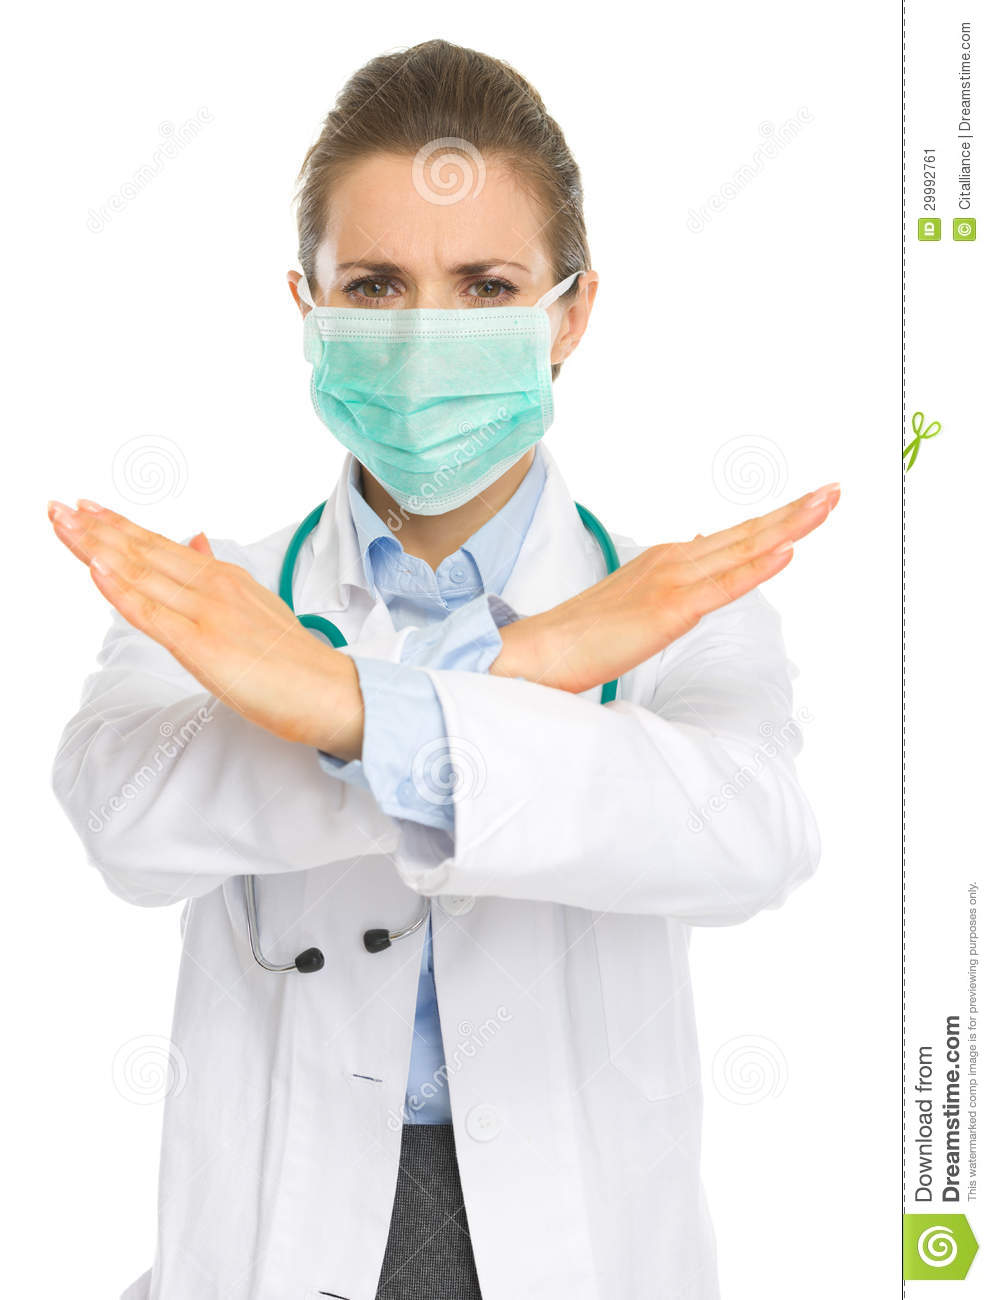mask: (307, 306, 557, 514)
